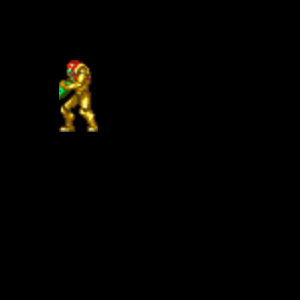Collectible: (59, 60, 98, 132)
